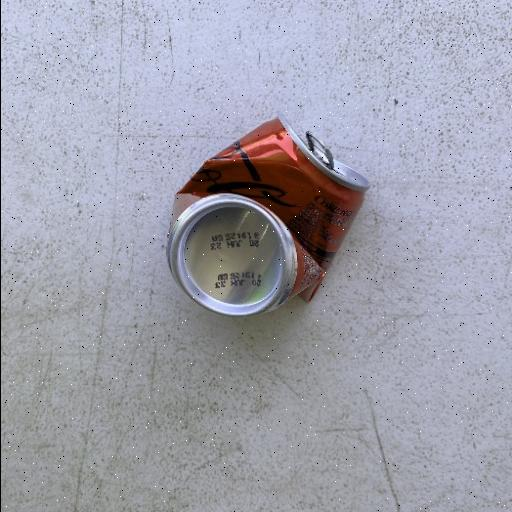Metal: (164, 114, 371, 318)
